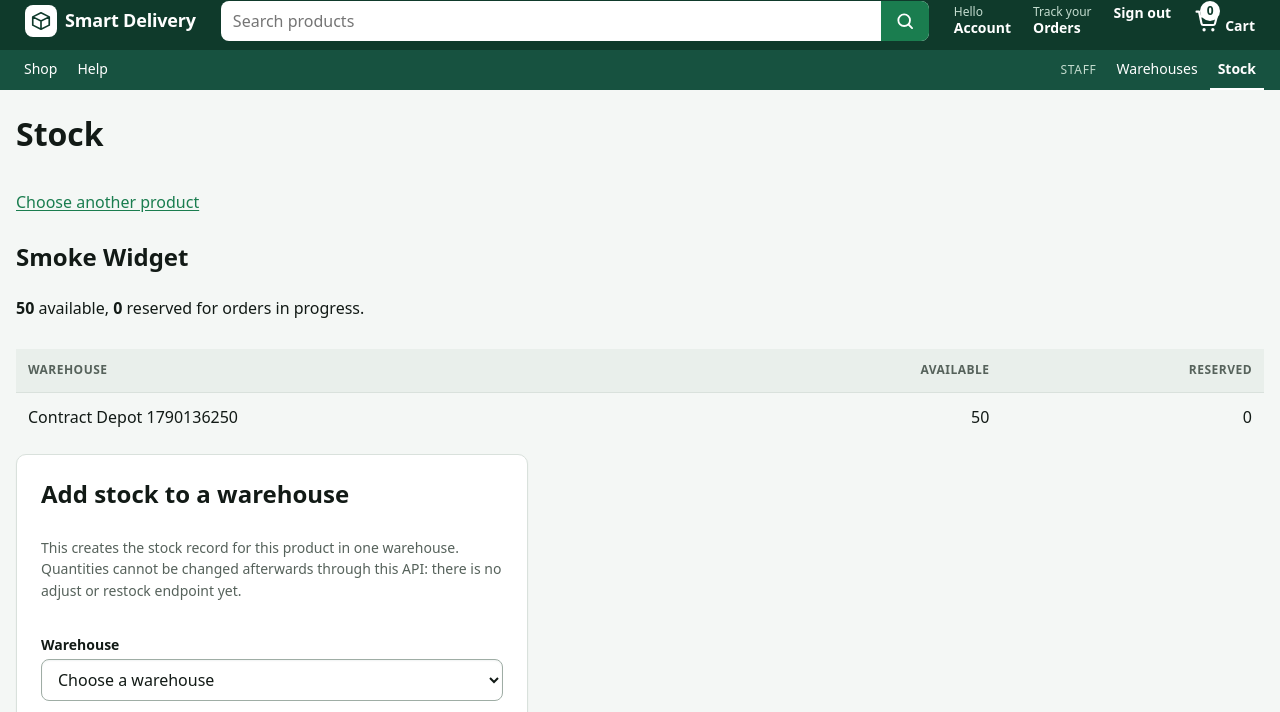
Scenario: adding stock › creates the first row for a product and warehouse
Select "Contract Depot 1790136250" in the dropdown labelled "Warehouse" at (272, 680), box x1=41 y1=659 x2=503 y2=701
(page scrolled)
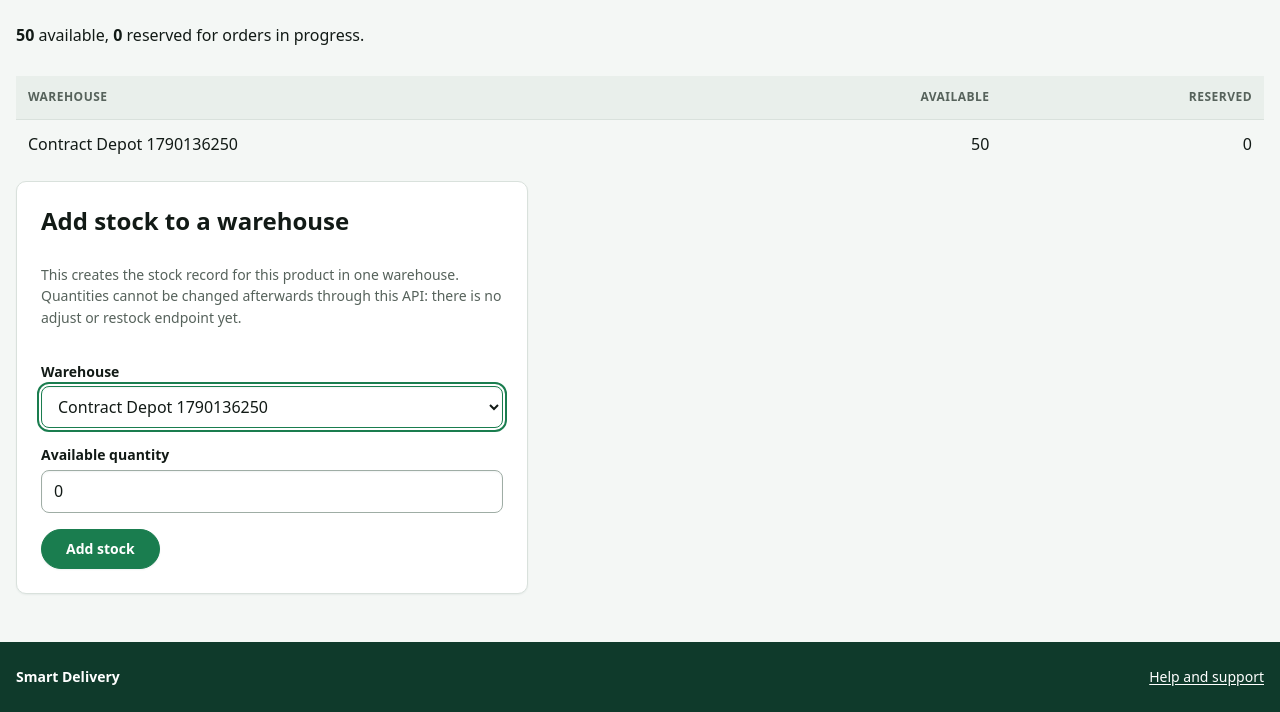
Replace the text in the number field labelled "Available quantity" with "40" at (272, 492), box x1=41 y1=470 x2=503 y2=513
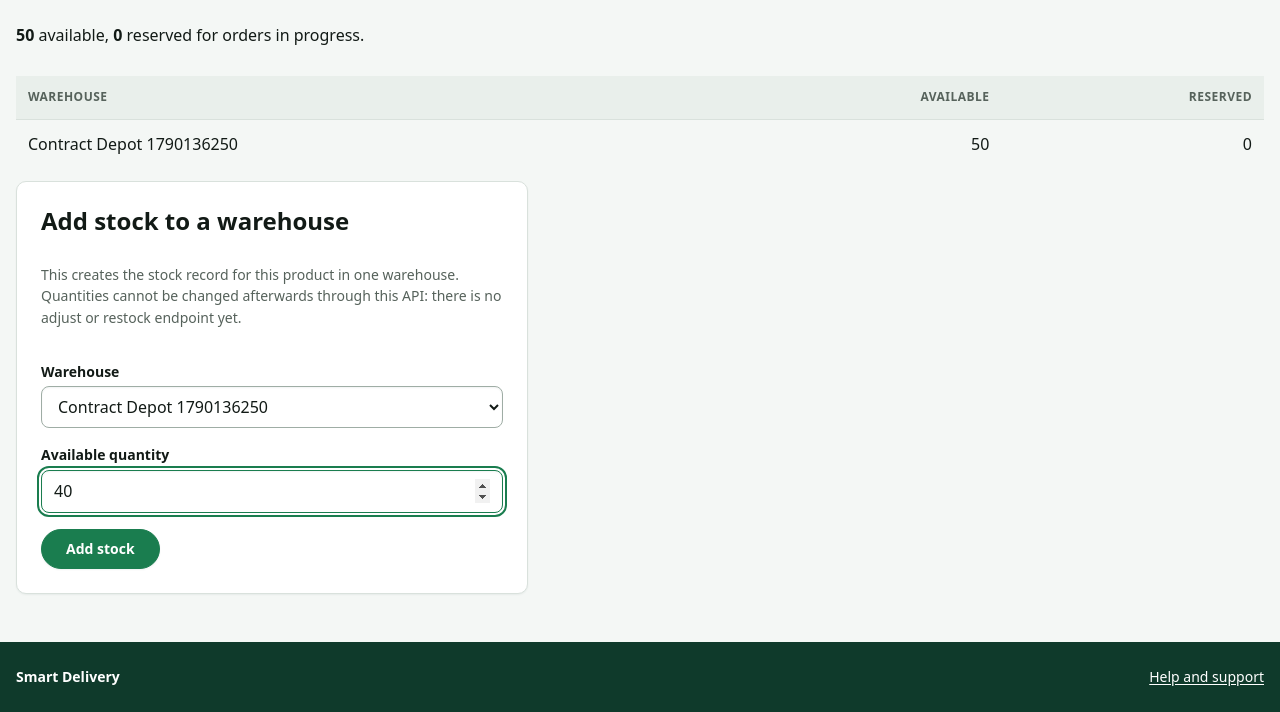
Click the button "Add stock" at (100, 549), box x1=41 y1=529 x2=160 y2=569
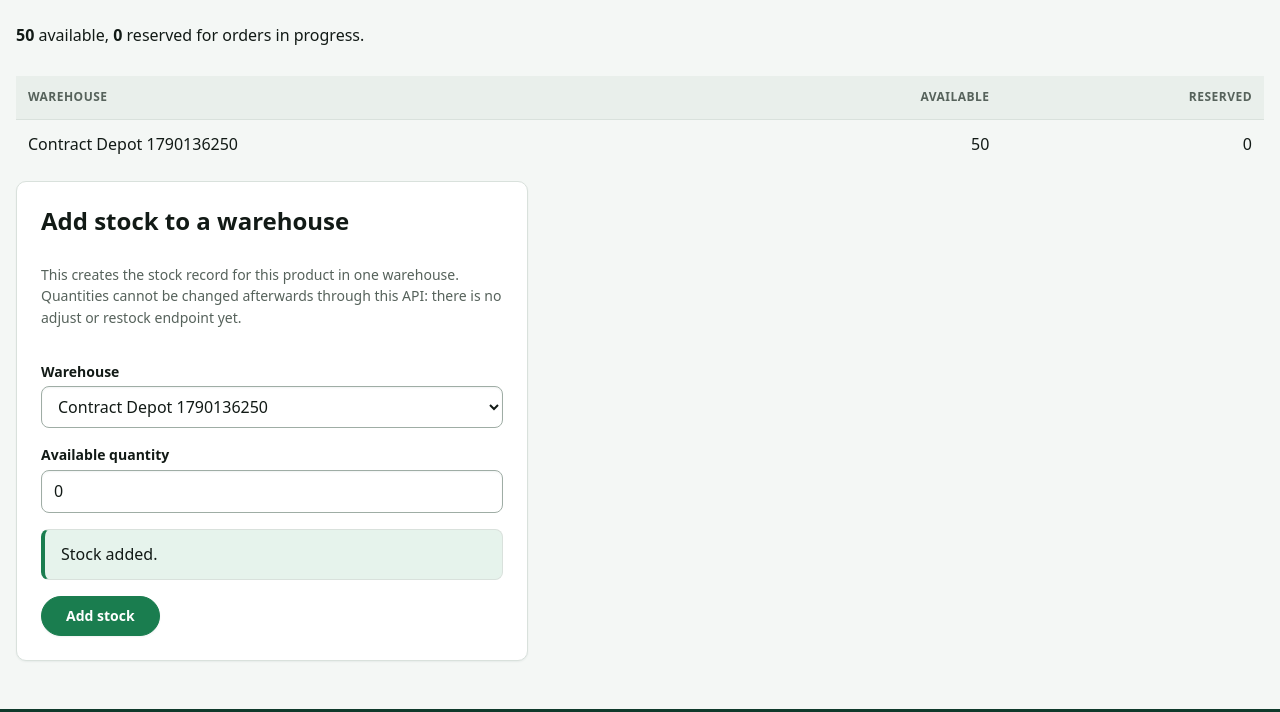
expect the text "Stock added." is shown: met, box x1=41 y1=529 x2=503 y2=580
